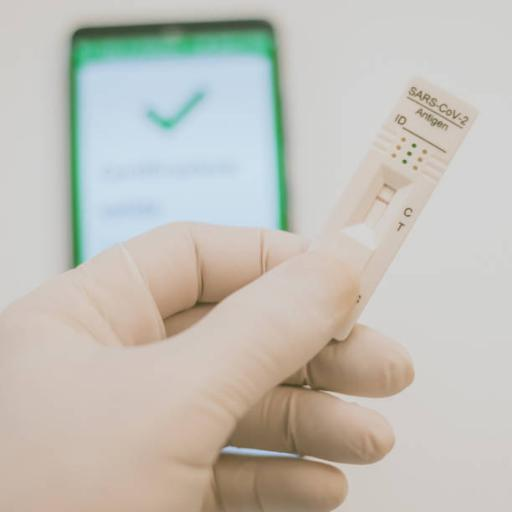Neg: (281, 77, 480, 344)
